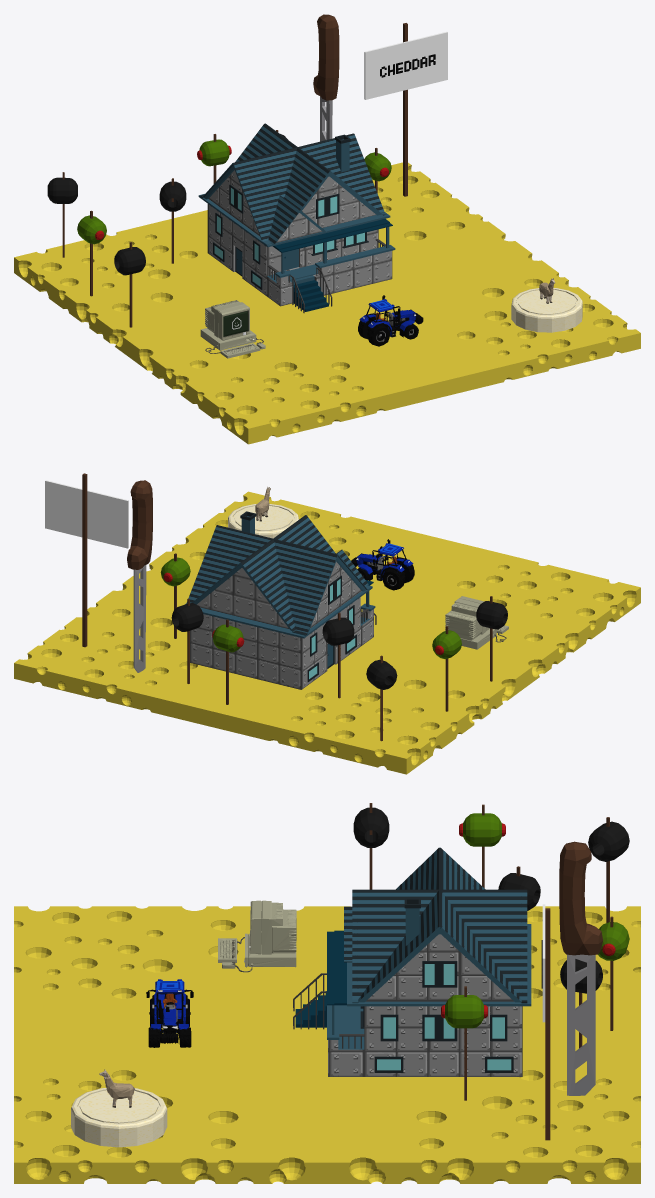
3 renders of one model, top to bottom at view 1: azimuth 30°, elevation 25°; view 2: azimuth 150°, elevation 25°; view 3: azimuth 270°, elevation 25°, orthographic. The views are drawn at different scales.
Parts seen in each view (by area): view 1: Cube.022, Cube.078, Cube.023, Cylinder.016, OBJRANDOM_RETRO_PC, Cube.024, VEHICLES_TRACTOR, Sphere.017, Sphere.016, Sphere.020, Sphere.018, Sphere.022 (+1 smaller); view 2: Cube.022, Cube.078, Cube.023, Cube.024, VEHICLES_TRACTOR, OBJRANDOM_RETRO_PC, Cylinder.016, Sphere.017, Sphere.020, Sphere.021, Sphere.016, Sphere.018 (+2 smaller); view 3: Cube.022, Cube.078, Cube.024, Cylinder.016, OBJRANDOM_RETRO_PC, VEHICLES_TRACTOR, Cube.023, Sphere.019, Sphere.016, Sphere.018, Sphere.017, Sphere.022 (+3 smaller).
Boxes of the visible parts, <box> form: Cube.022: <box>14,162,640,444</box>; Cube.078: <box>198,123,395,313</box>; Cube.023: <box>364,23,447,196</box>; Cylinder.016: <box>511,288,582,332</box>; OBJRANDOM_RETRO_PC: <box>200,300,265,358</box>; Cube.024: <box>313,14,339,141</box>; VEHICLES_TRACTOR: <box>358,295,423,346</box>; Sphere.017: <box>114,242,145,327</box>; Sphere.016: <box>47,172,77,257</box>; Sphere.020: <box>159,178,186,263</box>; Sphere.018: <box>77,210,106,296</box>; Sphere.022: <box>197,134,231,183</box>; Cube.022: <box>14,491,640,774</box>; Cube.078: <box>185,511,376,689</box>; Cube.023: <box>45,473,128,647</box>; Cube.024: <box>127,480,152,672</box>; VEHICLES_TRACTOR: <box>351,539,414,590</box>; OBJRANDOM_RETRO_PC: <box>445,596,508,649</box>; Cylinder.016: <box>228,503,298,538</box>; Sphere.017: <box>476,596,507,681</box>; Sphere.020: <box>322,612,354,698</box>; Sphere.021: <box>171,598,203,683</box>; Sphere.016: <box>366,655,397,741</box>; Sphere.018: <box>432,626,461,711</box>; Cube.022: <box>14,906,640,1183</box>; Cube.078: <box>293,847,531,1076</box>; Cube.024: <box>559,841,602,1095</box>; Cylinder.016: <box>71,1088,167,1147</box>; OBJRANDOM_RETRO_PC: <box>218,900,296,972</box>; VEHICLES_TRACTOR: <box>146,979,193,1047</box>; Cube.023: <box>541,904,550,1140</box>; Sphere.019: <box>441,986,487,1100</box>; Sphere.016: <box>588,817,629,922</box>; Sphere.018: <box>459,804,505,887</box>; Sphere.017: <box>353,803,389,889</box>; Sphere.022: <box>598,916,629,1030</box>.
Bounding box in the file's own units: 3917 × 2108 × 4000.
33 materials, 5 textured.
